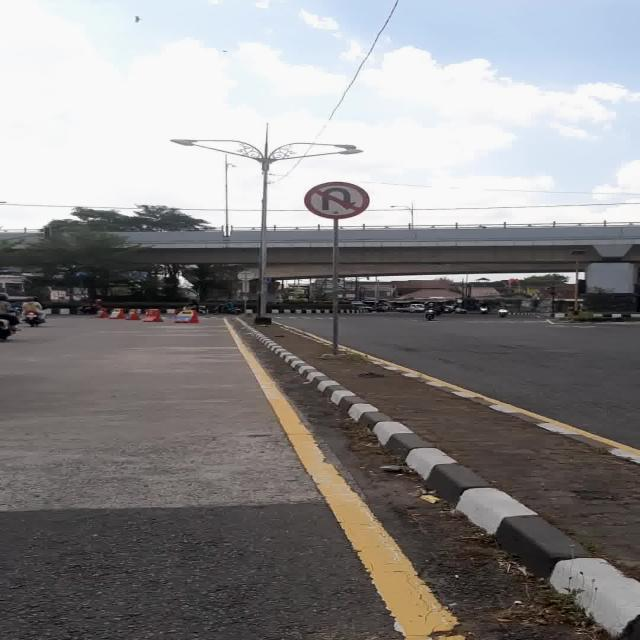Dilarang Putar Balik: (303, 180, 370, 220)
